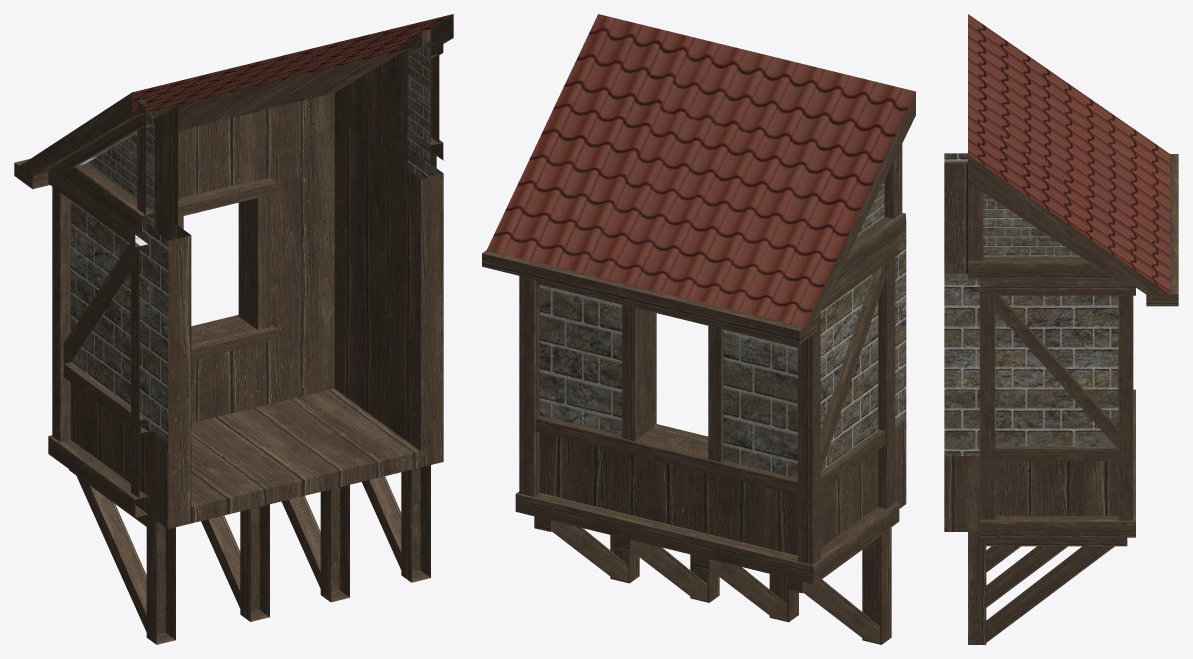
File: ARC1010371.fbx
3 renders of one model, left to right at view 1: azimuth 30°, elevation 25°; view 2: azimuth 150°, elevation 25°; view 3: azimuth 270°, elevation 25°, orthographic. The views are drawn at different scales.
Visible parts, largest first — view 1: smARC1010371; view 2: smARC1010371; view 3: smARC1010371.
Boxes of the visible parts, x1,y1,x2,y2 form: smARC1010371: (14,14,453,644); smARC1010371: (482,14,915,644); smARC1010371: (944,14,1178,644).
Bounding box in the file's own units: 313 × 519 × 220.
1 material, 1 textured.
